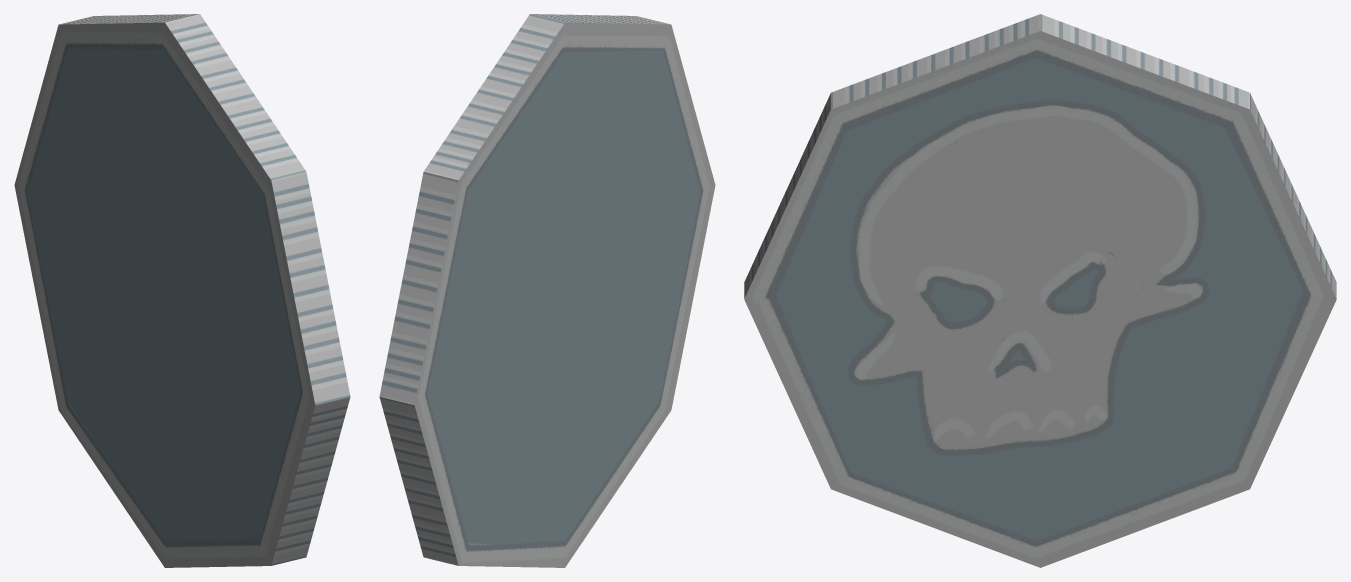
Rendered from PacCoin.fbx.
The picture shows the model from 3 angles, left to right: view 1: azimuth 30°, elevation 25°; view 2: azimuth 150°, elevation 25°; view 3: azimuth 270°, elevation 25°; orthographic projection.
Visible parts, largest first — view 1: Cylinder; view 2: Cylinder; view 3: Cylinder.
Boxes of the visible parts, bbox=[...] form: Cylinder: bbox=[14, 14, 350, 567]; Cylinder: bbox=[379, 14, 715, 567]; Cylinder: bbox=[744, 14, 1336, 567].
Bounding box in the file's own units: 13.49 × 200 × 200.
